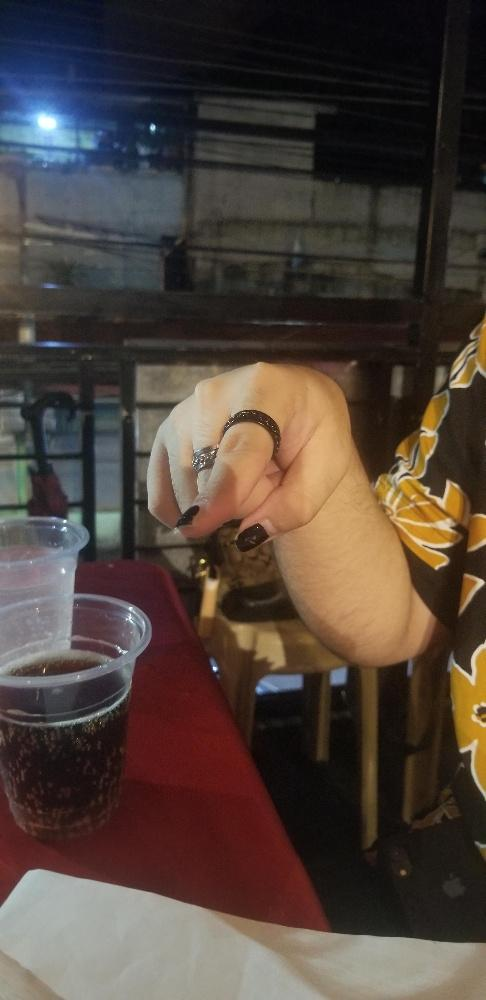z: (138, 361, 342, 567)
